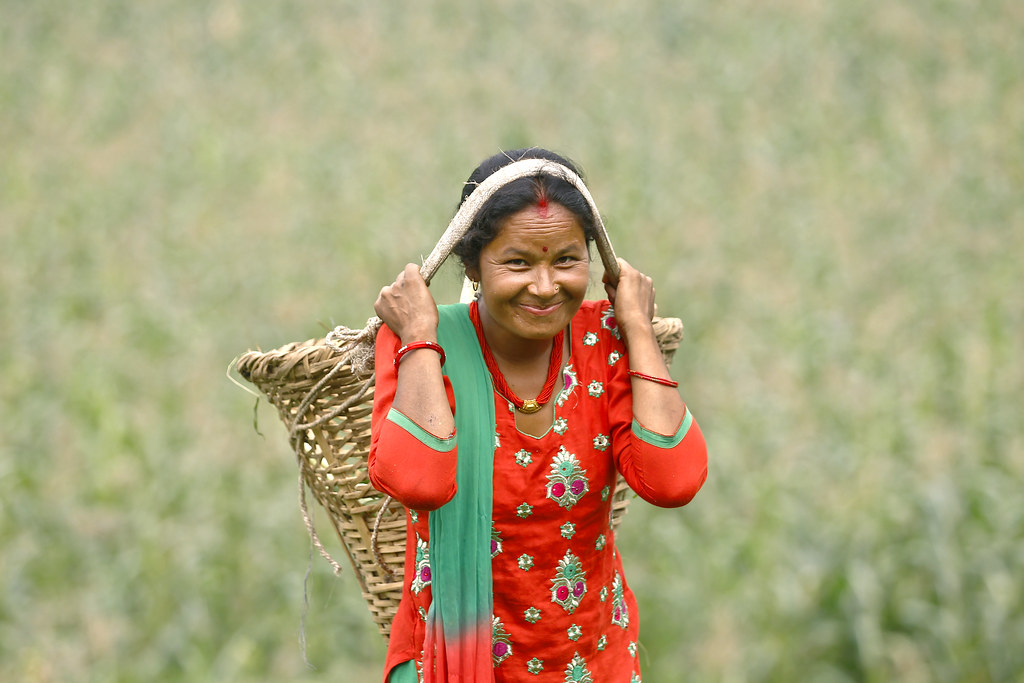human: (365, 143, 714, 683)
